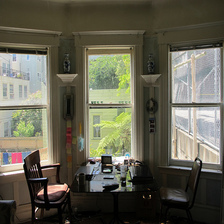laptop: (122, 161, 155, 186)
